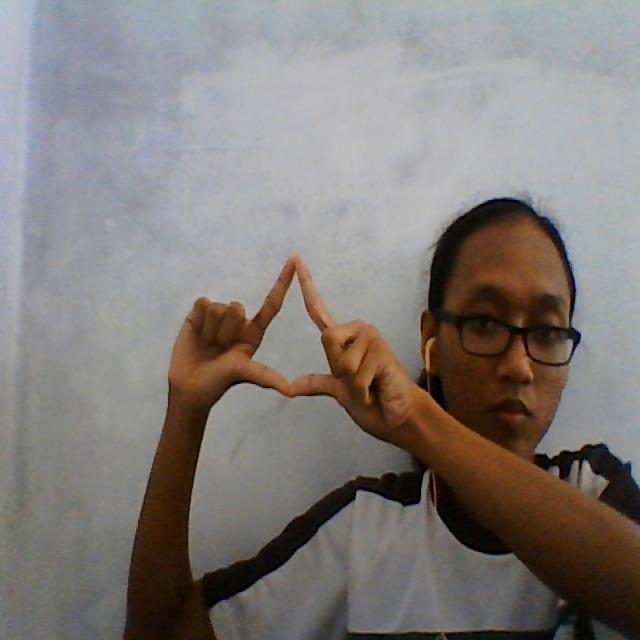A: (125, 238, 442, 434)
